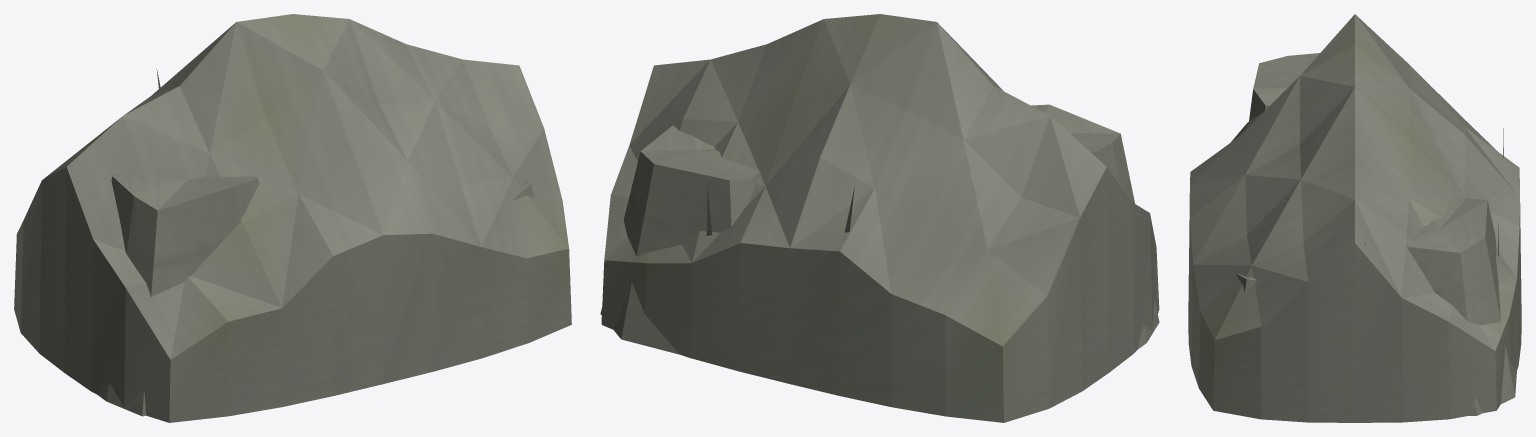
Rendered from cliff-granite-lod0.glb.
The picture shows the model from 3 angles, left to right: view 1: azimuth 30°, elevation 25°; view 2: azimuth 150°, elevation 25°; view 3: azimuth 270°, elevation 25°; orthographic projection. The views are drawn at different scales.
Bounding box in the file's own units: 0.5151 × 0.3324 × 0.3563.
Materials: 1 (1 with a texture image).
